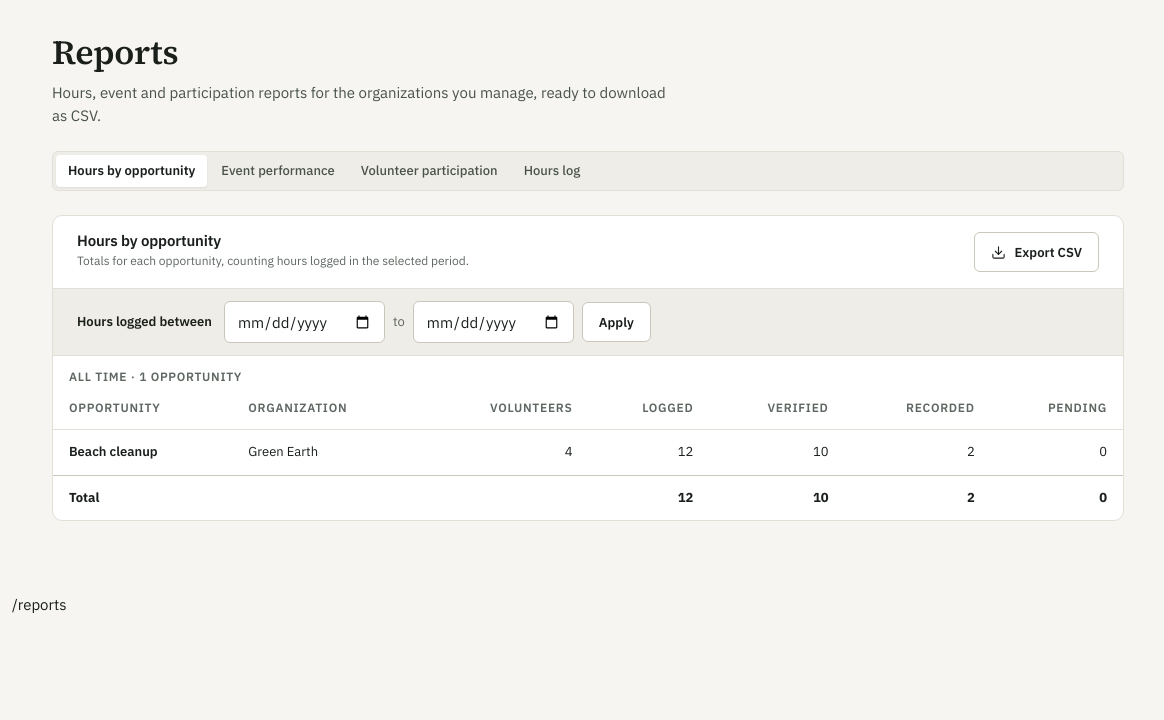
Test: Reports › shows event performance with the fill rate
Expected: the cell "Beach cleanup" is shown, [53,430,232,475]
Click the button "Event performance" at (278, 171), box [209,155,347,187]
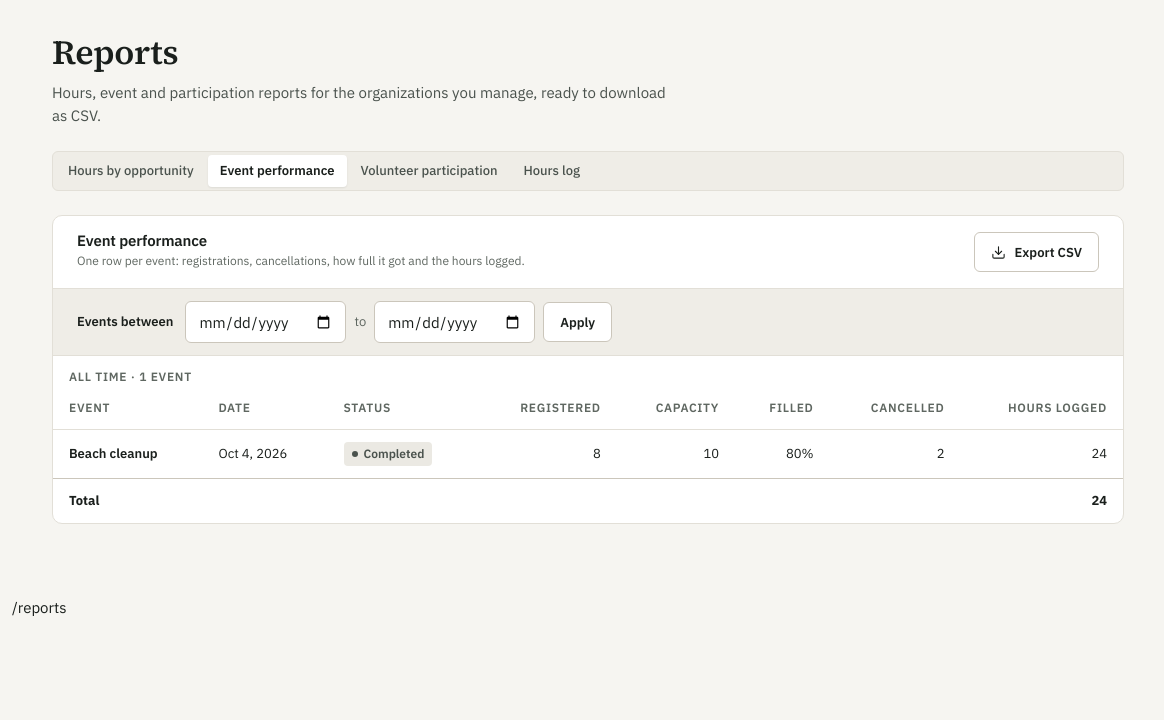
Now the cell "80%" is shown, box [735,430,830,478]
Now the text "All time · 1 event" is shown, box [69,369,192,384]
